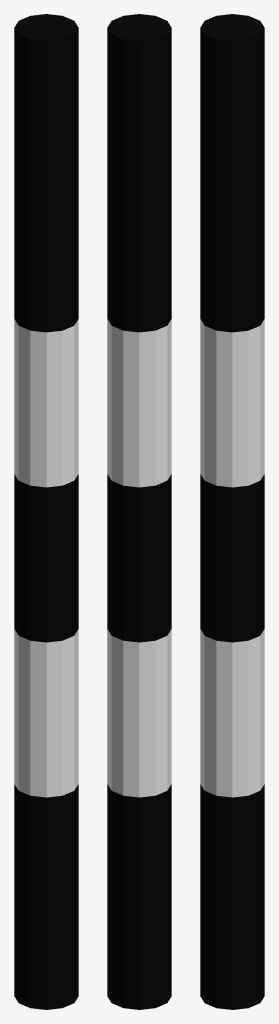
The model's file is column_5m.obj.
3 renders of one model, left to right at view 1: azimuth 30°, elevation 25°; view 2: azimuth 150°, elevation 25°; view 3: azimuth 330°, elevation 25°, orthographic.
Parts seen in each view (by area): view 1: 柱体; view 2: 柱体; view 3: 柱体.
Boxes of the visible parts, box(x1,y1,x2,y2) form: 柱体: box(14, 14, 78, 1009); 柱体: box(107, 14, 171, 1009); 柱体: box(200, 14, 264, 1009).
Size of the model in its own units: 0.3 by 5 by 0.3.
Materials: 1 (1 with a texture image).
